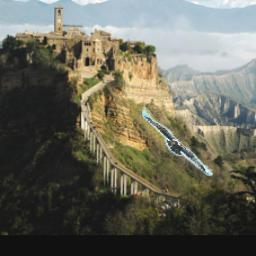Crow: (141, 108, 214, 177)
